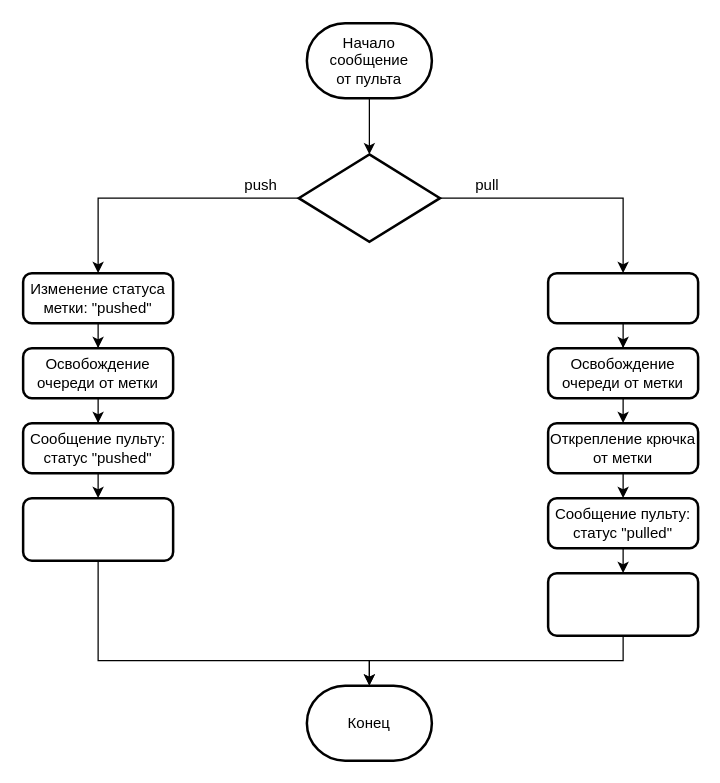
The diagram is 720 pixels wide and 783 high, and some of its shapes have lost their labels. The box of each missing label's shape, as (x1, y1, x2, y2) in pixels:
Изменение статуса метки: "pulled": (546, 271, 699, 324)
Сообщение вешалке: статус "pulled": (546, 571, 699, 636)
Сообщение вешалке: статус "pushed": (21, 496, 174, 561)
статус метки: (297, 152, 441, 242)
